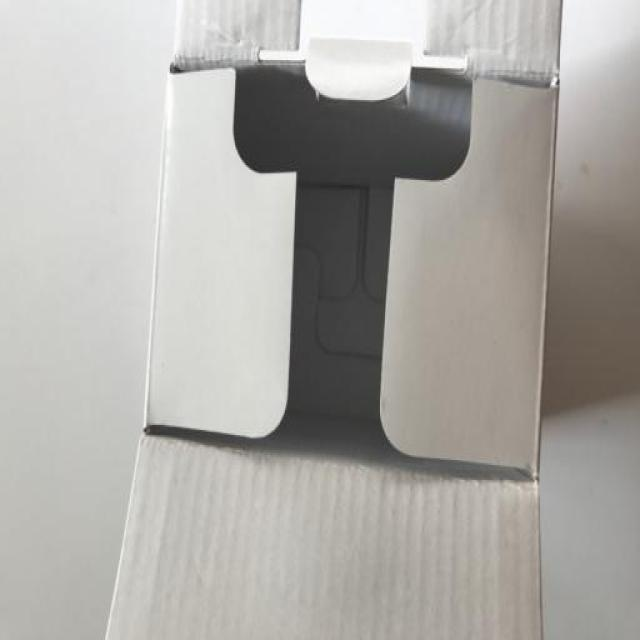Cardboard: (102, 2, 570, 634)
